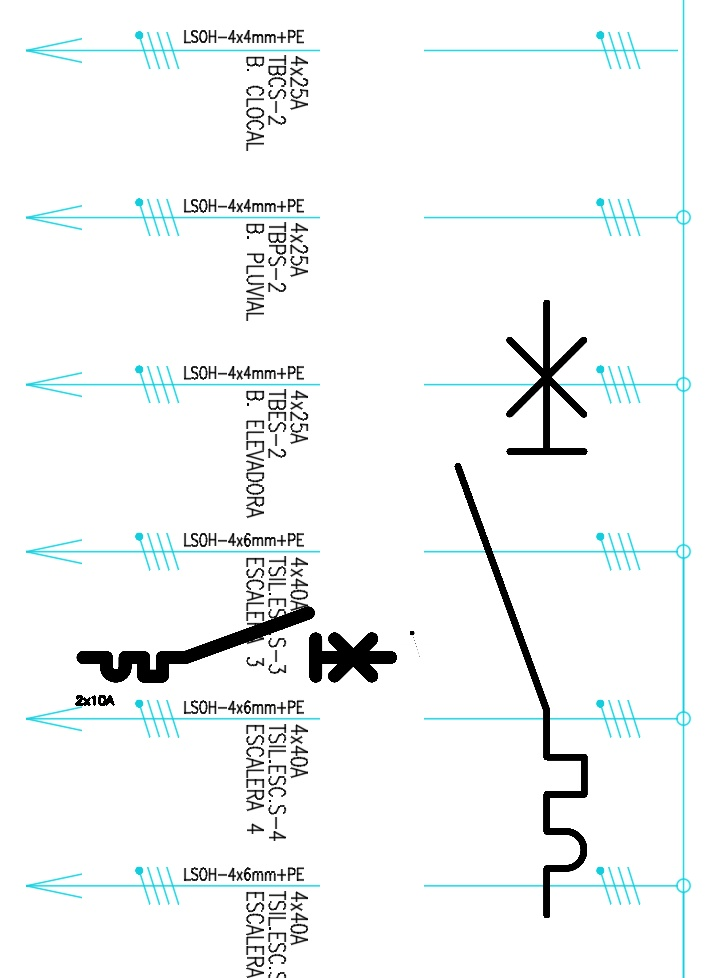interruptor_termomagnetico: (442, 287, 600, 931), (75, 605, 398, 684)
